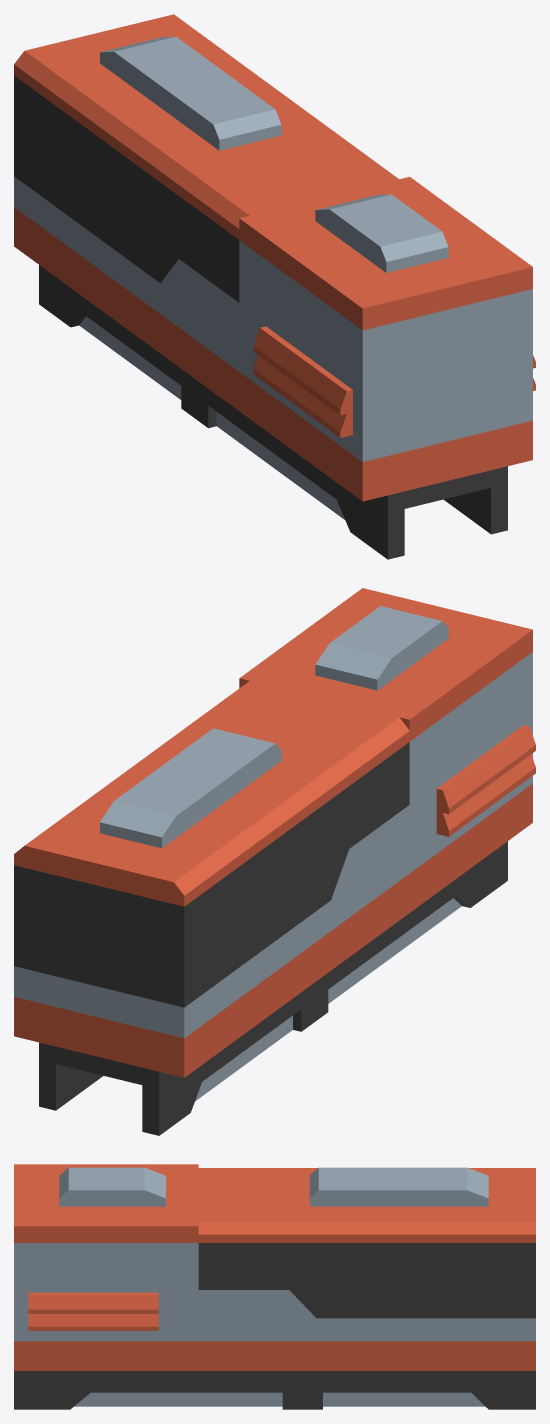
Rendered from monorailTrain_cart_exclusive.fbx.
3 renders of one model, top to bottom at view 1: azimuth 30°, elevation 25°; view 2: azimuth 150°, elevation 25°; view 3: azimuth 270°, elevation 25°, orthographic. The views are drawn at different scales.
Visible parts, largest first — view 1: monorailTrain_cart_exclusive; view 2: monorailTrain_cart_exclusive; view 3: monorailTrain_cart_exclusive.
Part boxes in pixels (x1,y1,x2,y2): monorailTrain_cart_exclusive: [14, 14, 535, 559]; monorailTrain_cart_exclusive: [14, 588, 535, 1135]; monorailTrain_cart_exclusive: [14, 1164, 535, 1409].
Bounding box in the file's own units: 4.66 × 6.36 × 14.4.
